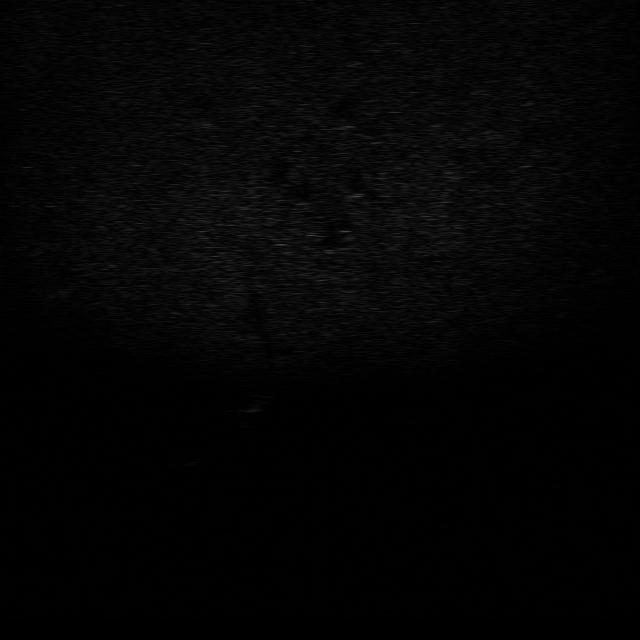human body: (232, 385, 276, 436)
